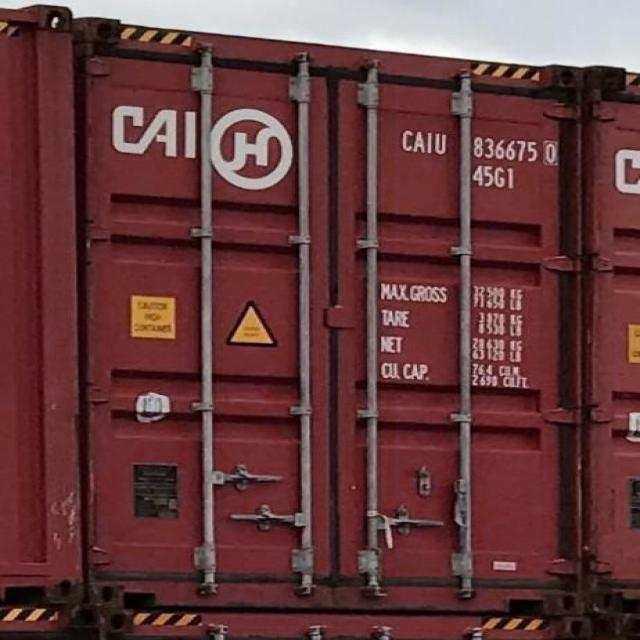ISO: (472, 167, 520, 191)
container_number: (404, 129, 560, 164)
